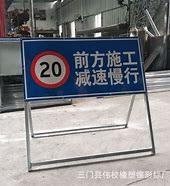sign: (22, 40, 145, 93)
